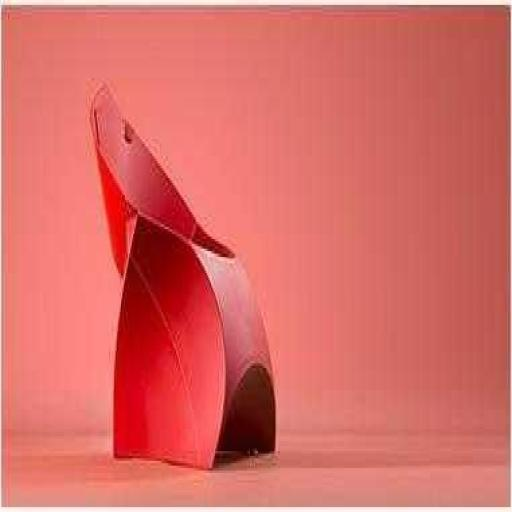chair: (85, 78, 285, 473)
